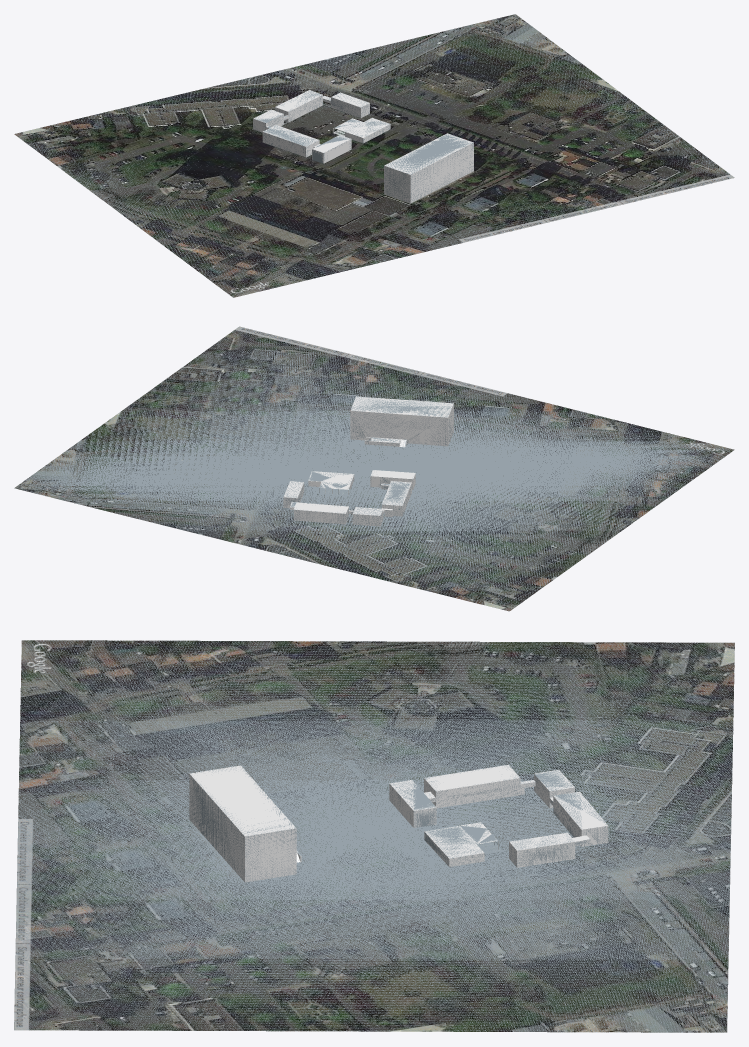
Rendered from ta mere la pute.fbx.
3 views of the same model, one above another, from view 1: azimuth 30°, elevation 25°; view 2: azimuth 150°, elevation 25°; view 3: azimuth 270°, elevation 25° (orthographic). The views are drawn at different scales.
Parts seen in each view (by area): view 1: Google_Earth_Snapshot, Model; view 2: Google_Earth_Snapshot, Model; view 3: Google_Earth_Snapshot, Model.
Boxes of the visible parts, <box> form: Google_Earth_Snapshot: <box>14,14,734,297</box>; Model: <box>253,90,473,203</box>; Google_Earth_Snapshot: <box>14,326,734,611</box>; Model: <box>283,396,453,526</box>; Google_Earth_Snapshot: <box>14,640,734,1032</box>; Model: <box>189,764,608,882</box>.
Bounding box in the file's own units: 296 × 21.2 × 230.
